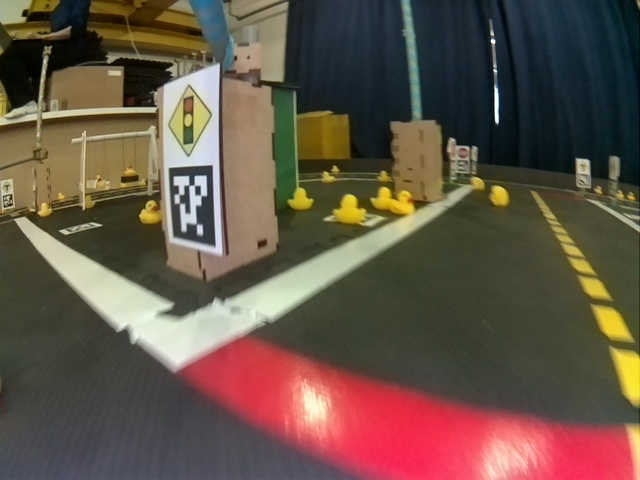Duckie: (335, 196, 366, 224), (389, 190, 415, 214), (489, 185, 510, 206), (290, 189, 312, 208), (141, 200, 160, 221), (373, 189, 389, 208), (319, 169, 335, 184), (38, 204, 52, 214), (472, 180, 482, 190)
QR code: (168, 166, 218, 240)
Signal sign: (163, 85, 216, 158)
